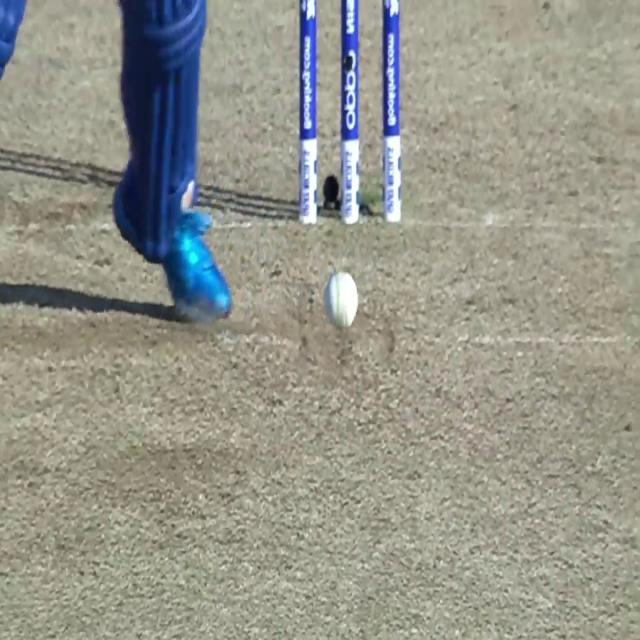ball: (326, 272, 358, 330)
